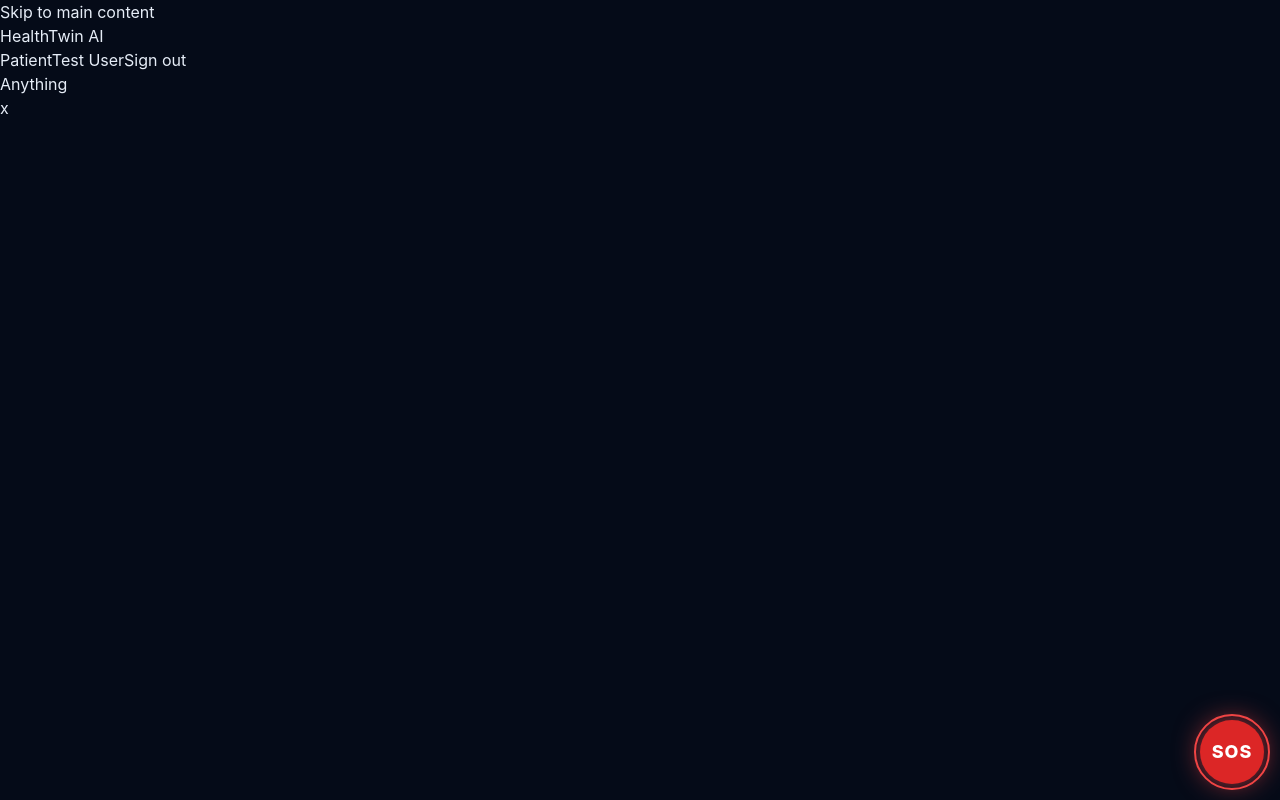
Scenario: SOS on every patient screen (41) › shows the SOS button on any patient page and opens the confirmation
What coordinates should you click on to do the following:
click the button with aria-label "Send emergency SOS"
I would click on:
 (1232, 752)
Its box is [1200,720,1264,784].
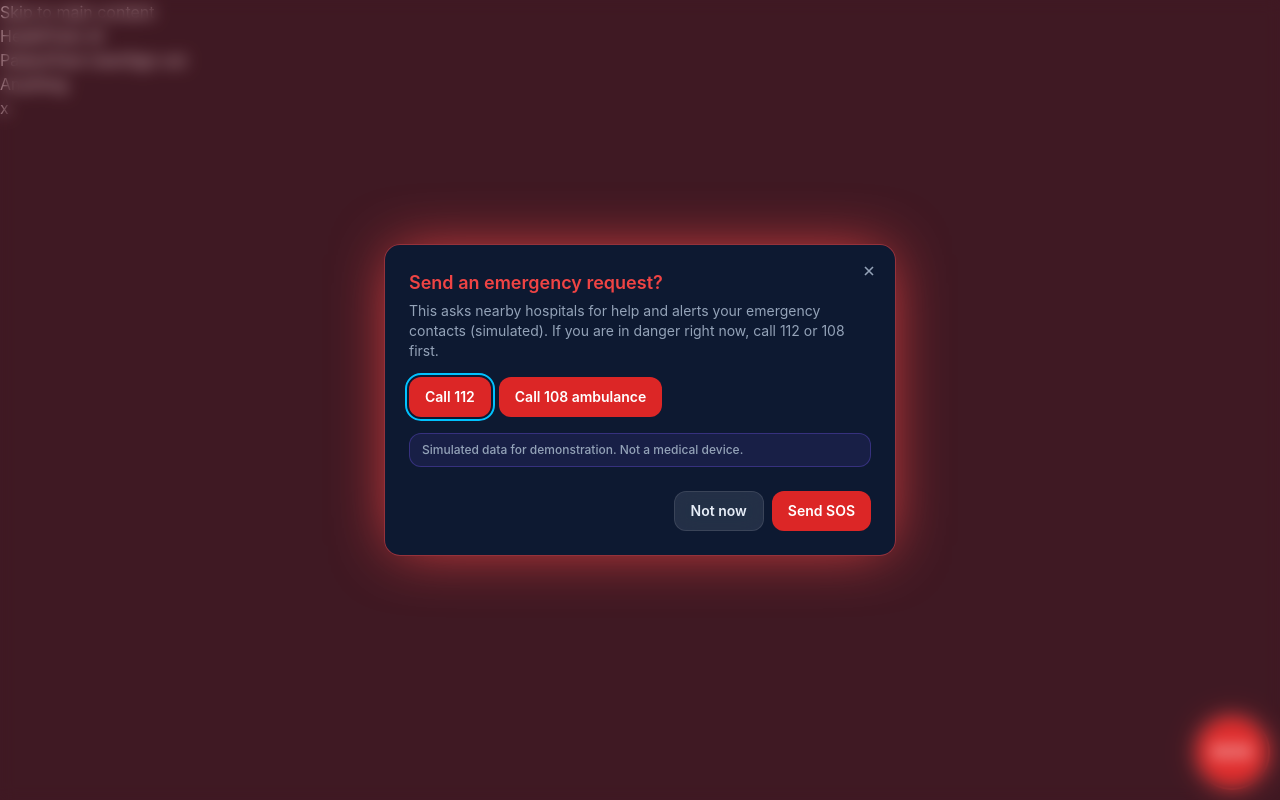
Now the dialog is shown, box [384,244,896,556]
